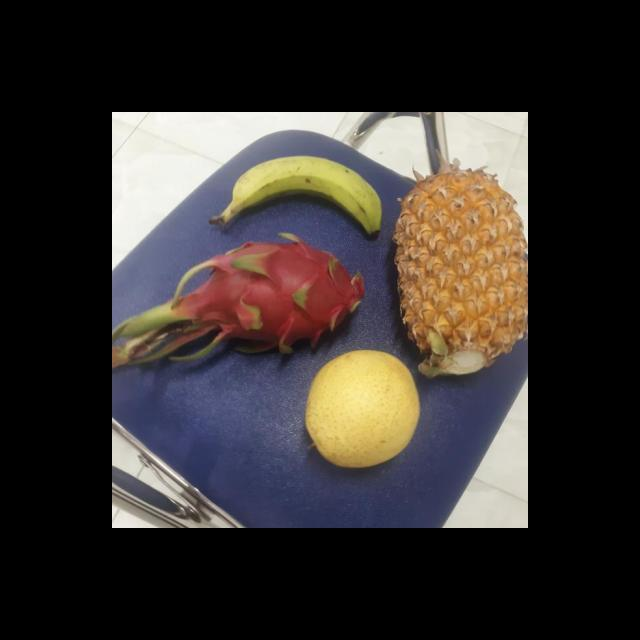banana: (226, 154, 387, 238)
pear: (302, 348, 423, 468)
pineapple: (392, 175, 528, 376)
pitaya: (182, 237, 384, 356)
